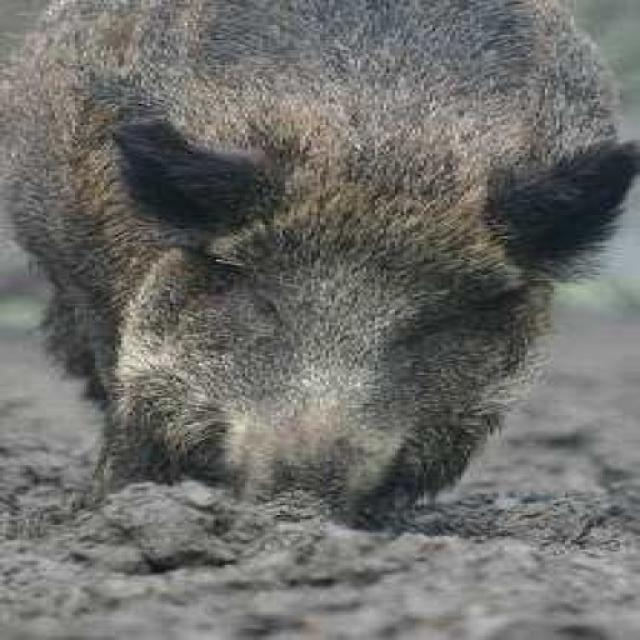pig: (27, 0, 620, 517)
